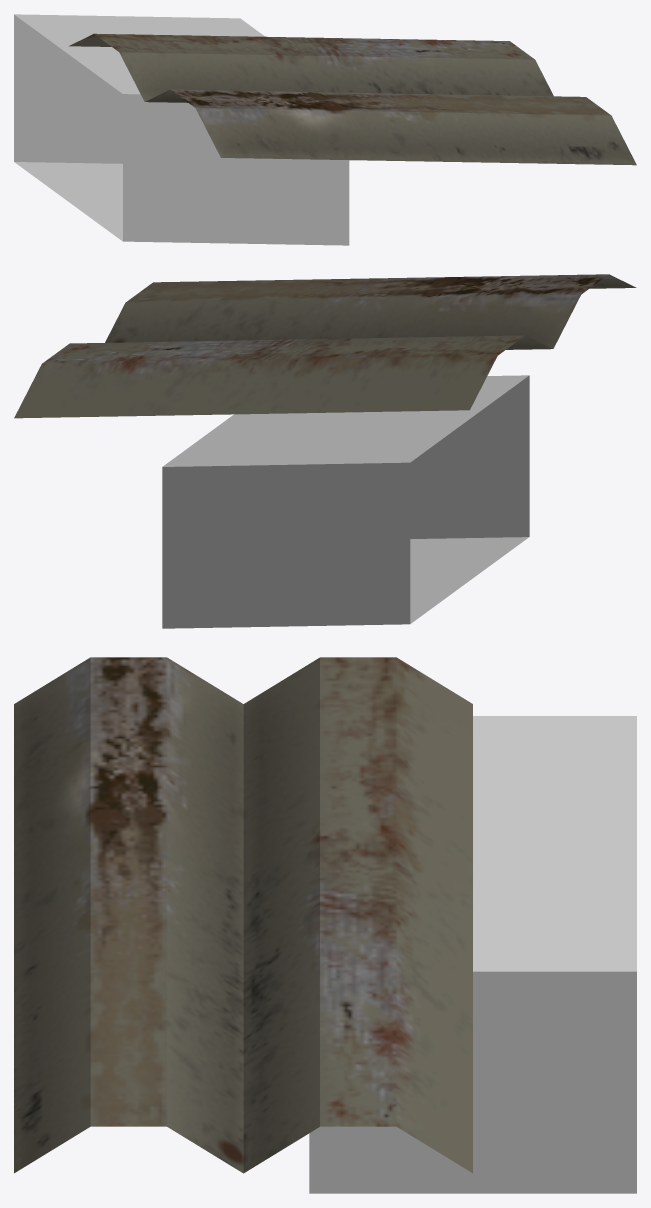
The model's file is Metal_Roof_Front_End.fbx.
3 renders of one model, top to bottom at view 1: azimuth 30°, elevation 25°; view 2: azimuth 150°, elevation 25°; view 3: azimuth 270°, elevation 25°, orthographic. The views are drawn at different scales.
Visible parts, largest first — view 1: Metal_Roof_Front_End; view 2: Metal_Roof_Front_End; view 3: Metal_Roof_Front_End.
Part boxes in pixels (bbox=[...]): Metal_Roof_Front_End: bbox=[14, 14, 636, 245]; Metal_Roof_Front_End: bbox=[14, 274, 636, 628]; Metal_Roof_Front_End: bbox=[14, 657, 636, 1193].
Size of the model in its own units: 0.6999 by 0.3952 by 0.6031.
